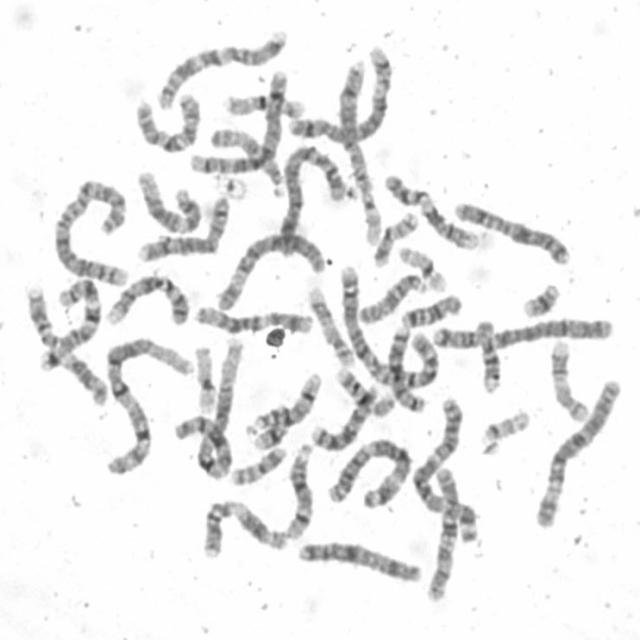A1: (99, 333, 197, 476), (174, 340, 244, 478)
A2: (339, 264, 442, 393), (50, 174, 131, 288)
A3: (409, 394, 479, 546), (323, 434, 413, 512)
B4: (274, 145, 342, 258), (484, 312, 615, 353)
B5: (187, 66, 298, 173), (285, 44, 395, 148)
C10: (424, 467, 464, 602), (131, 90, 202, 156)
C11: (14, 278, 108, 412), (198, 494, 289, 560)
C12: (184, 298, 315, 342), (134, 166, 202, 237)
C6: (530, 375, 624, 532), (211, 226, 328, 314)
C7: (153, 28, 290, 110), (34, 274, 102, 374)
C8: (135, 192, 232, 264), (338, 57, 375, 197)
C9: (380, 178, 476, 248), (104, 270, 192, 328)
D13: (309, 380, 378, 453), (383, 318, 424, 414)
D14: (244, 367, 324, 445), (281, 439, 316, 541)
D15: (207, 124, 285, 190), (356, 270, 432, 327)
E16: (332, 364, 397, 418), (220, 89, 307, 119)
E17: (304, 283, 356, 368), (547, 338, 589, 422)
E18: (404, 292, 465, 330), (430, 316, 494, 346)
F19: (395, 242, 449, 294), (192, 342, 216, 415)
F20: (372, 211, 419, 269), (227, 443, 288, 487)
G21: (518, 279, 563, 319), (256, 424, 288, 451)
G22: (478, 407, 531, 444), (361, 194, 384, 248)
X: (450, 197, 572, 257), (294, 541, 423, 585)
